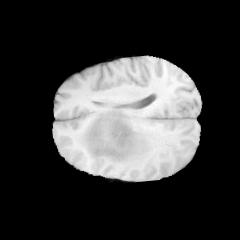glioma: (76, 109, 149, 163)
